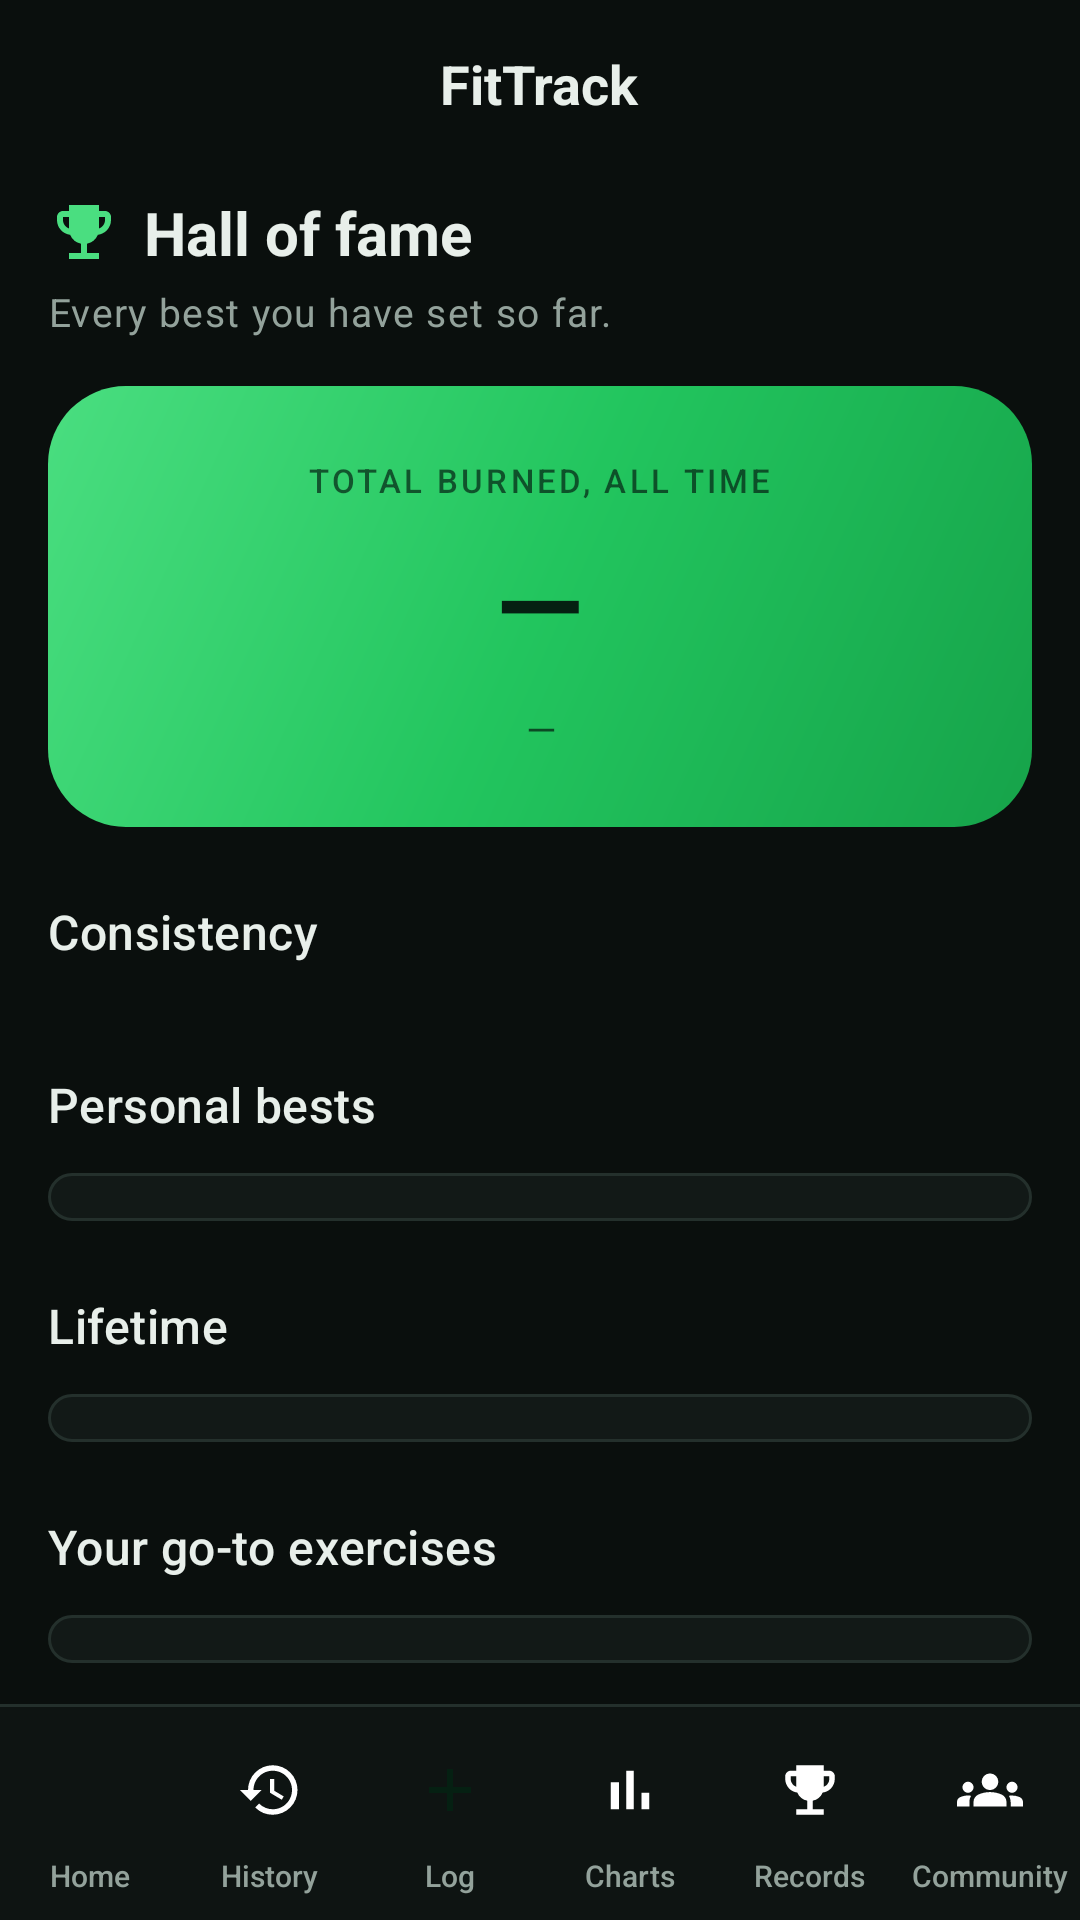

Named icons in this screenshot (1080px×1920px) and their centers, point (x, y):
trophy: point (84, 232)
